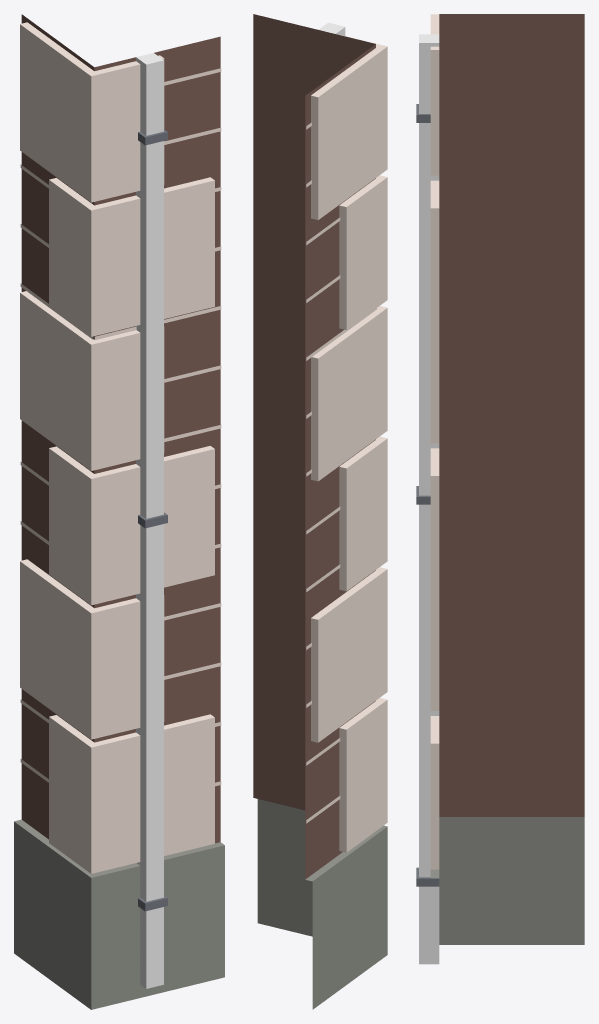
The model's file is base-c1_close.fbx.
3 views of the same model, side by side, from view 1: azimuth 30°, elevation 25°; view 2: azimuth 150°, elevation 25°; view 3: azimuth 270°, elevation 25° (orthographic). The views are drawn at different scales.
Parts seen in each view (by area): view 1: a2000s2/800/base-c1_close; view 2: a2000s2/800/base-c1_close; view 3: a2000s2/800/base-c1_close.
Part boxes in pixels (x1,y1,x2,y2): a2000s2/800/base-c1_close: (14,14,224,1009); a2000s2/800/base-c1_close: (253,14,387,1009); a2000s2/800/base-c1_close: (416,14,584,964).
Bounding box in the file's own units: 0.53 × 3.55 × 0.58.
